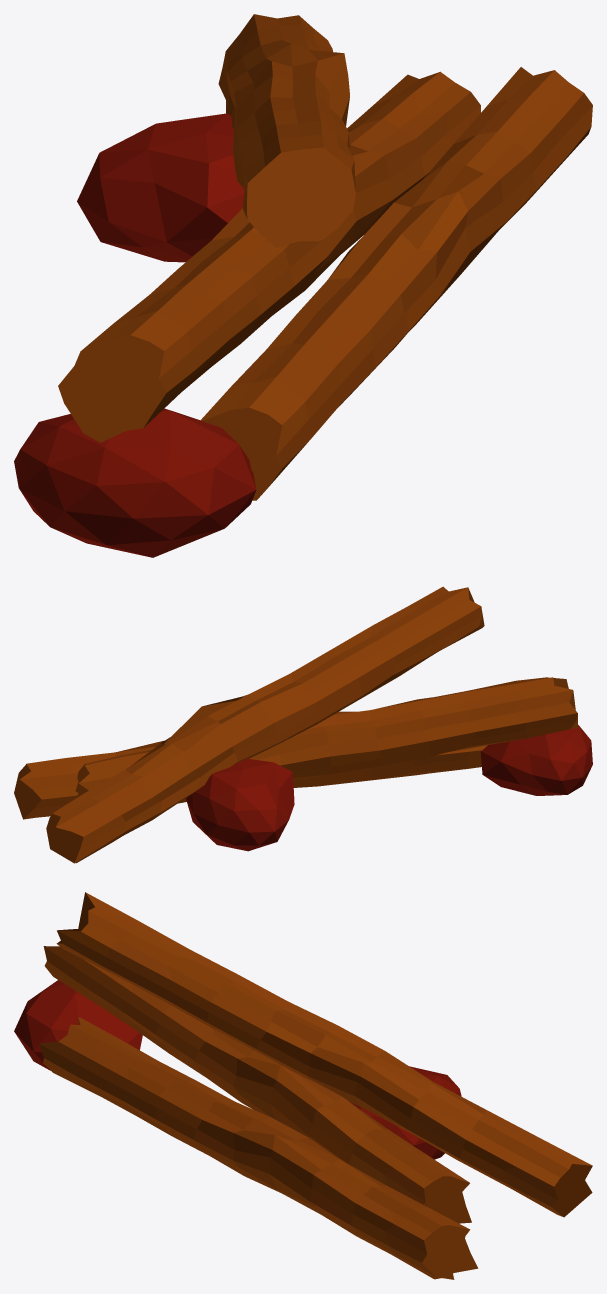
The model's file is logstone2.fbx.
3 views of the same model, one above another, from view 1: azimuth 30°, elevation 25°; view 2: azimuth 150°, elevation 25°; view 3: azimuth 270°, elevation 25° (orthographic). The views are drawn at different scales.
Parts seen in each view (by area): view 1: Cylinder.001, Cylinder, Icosphere, Cylinder.002, Icosphere.001; view 2: Cylinder.002, Cylinder, Icosphere.001, Cylinder.001, Icosphere; view 3: Cylinder.002, Cylinder.001, Cylinder, Icosphere, Icosphere.001.
Boxes of the visible parts, x1,y1,x2,y2 form: Cylinder.001: [201, 67, 592, 500]; Cylinder: [58, 71, 480, 442]; Icosphere: [14, 408, 256, 557]; Cylinder.002: [218, 14, 355, 247]; Icosphere.001: [77, 113, 244, 262]; Cylinder.002: [46, 586, 484, 863]; Cylinder: [75, 677, 577, 803]; Icosphere.001: [186, 758, 294, 851]; Cylinder.001: [14, 740, 487, 819]; Icosphere: [480, 725, 592, 795]; Cylinder.002: [56, 892, 592, 1217]; Cylinder.001: [39, 1017, 478, 1279]; Cylinder: [43, 946, 471, 1223]; Icosphere: [14, 980, 142, 1070]; Icosphere.001: [349, 1066, 461, 1159].
Bounding box in the file's own units: 678 × 280 × 661.
